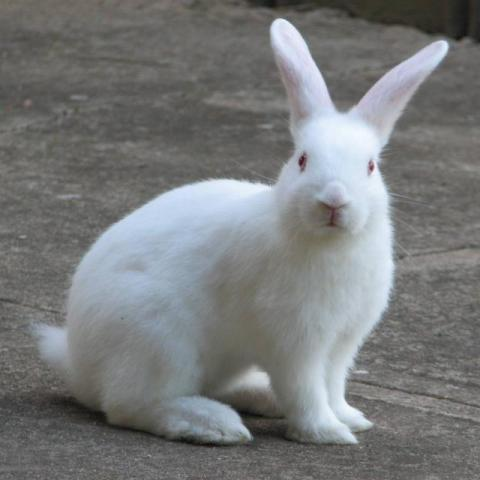small_animal: (31, 16, 450, 448)
